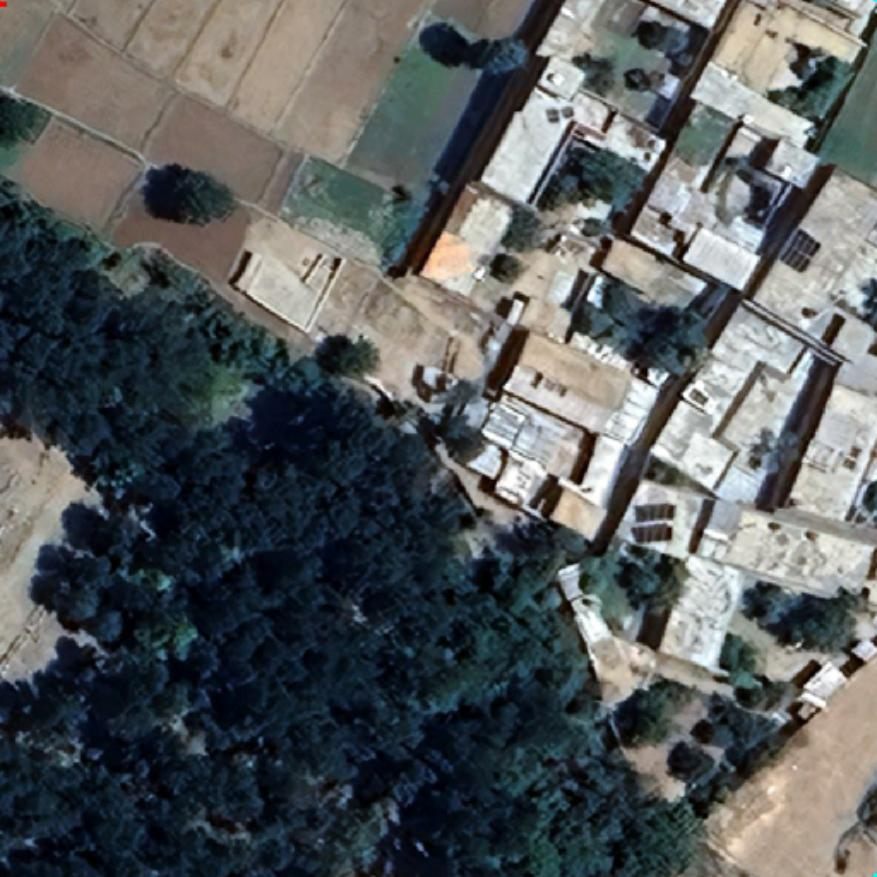Solarpanel: (778, 230, 822, 272), (631, 520, 675, 546), (540, 104, 577, 128), (629, 503, 675, 520)
